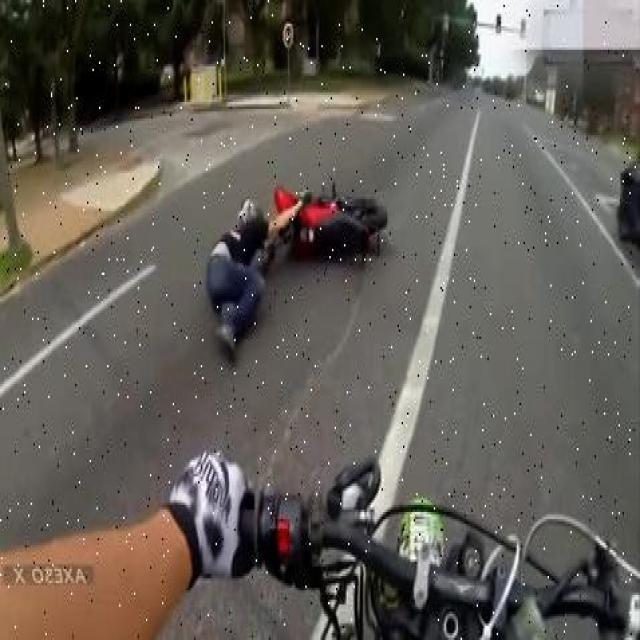fall: (202, 187, 300, 353)
